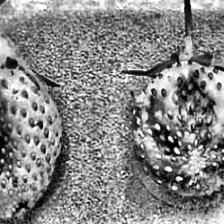Anthracnose Fruit Rot: (131, 66, 224, 178), (0, 113, 28, 172)
